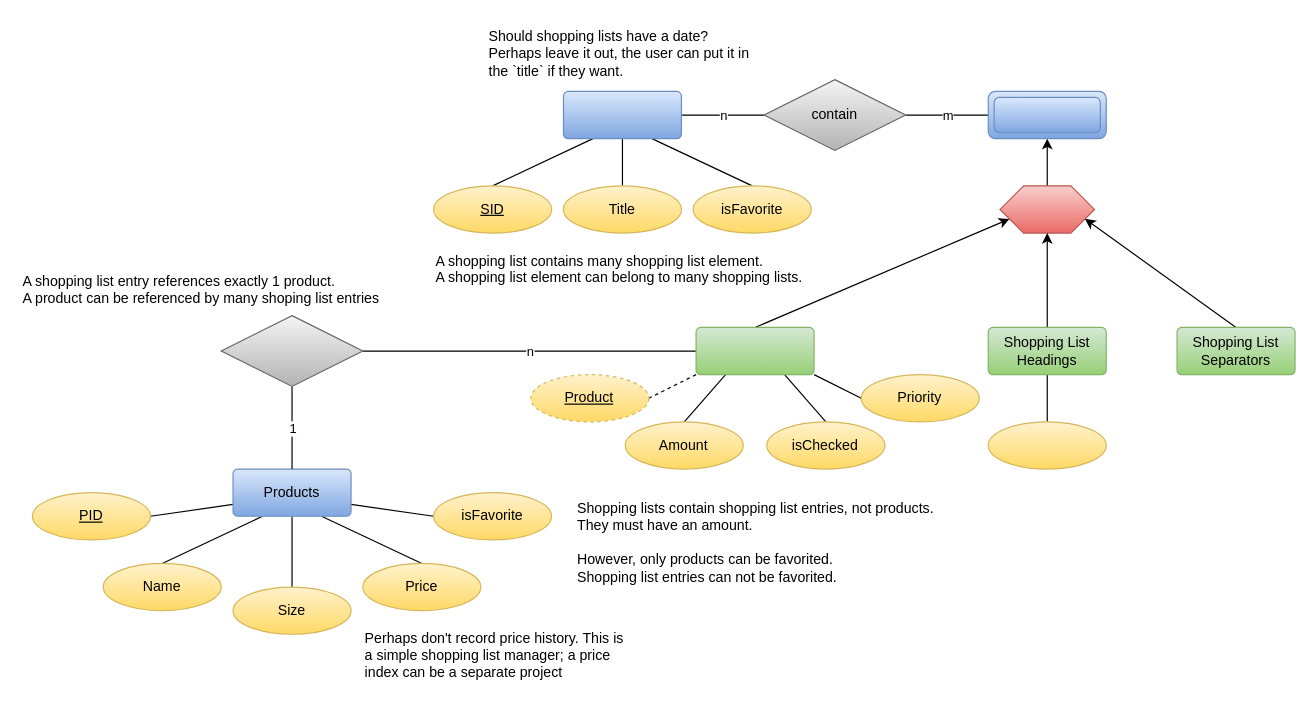
The diagram is 1316 pixels wide and 713 high, and some of its shapes have lost their labels. The shapes that lost their labels are listed below. From the top down, each one's centre as x and y in pixels, then its label:
the point at 621,114: Shopping Lists
the point at 1046,114: Shopping List Elements
the point at 1046,209: is a
the point at 291,350: references
the point at 754,350: Shopping List Entries
the point at 1046,445: Content
